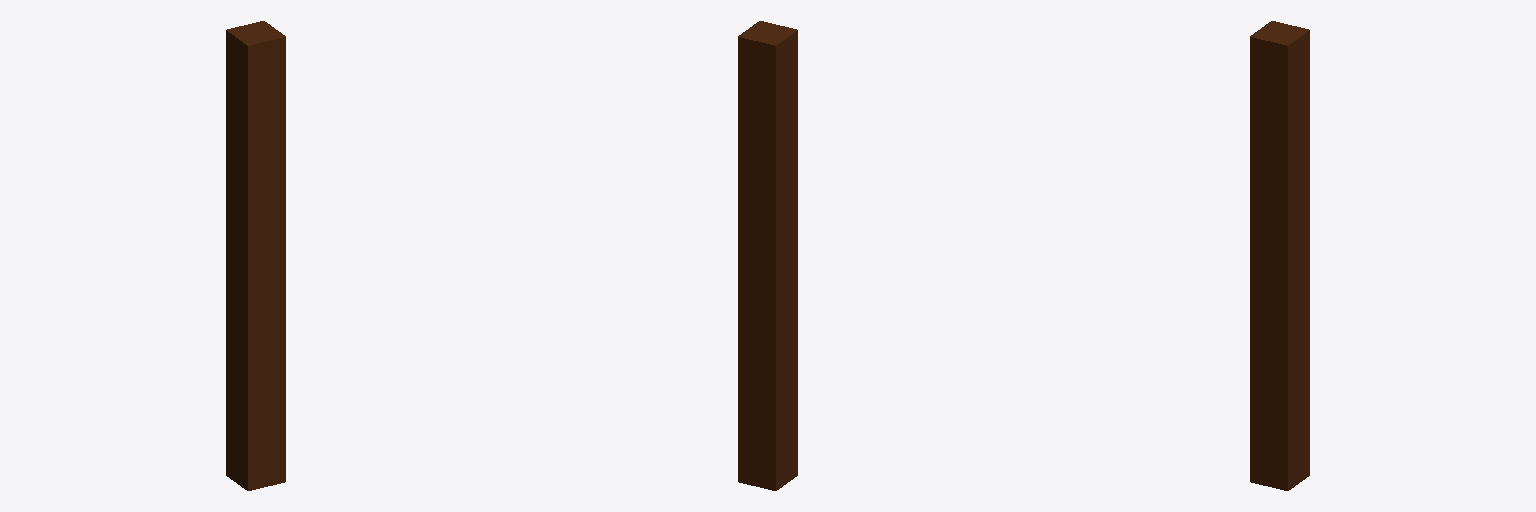
URDF robot description (tree_mid_mid):
<?xml version="1.0" ?>
<robot name="tree_mid_mid">
    <link name="block">
    <inertial>
      <origin xyz="0 0 0" rpy="0 0 0"/>
      <mass value="0.0"/>
      <inertia ixx="1" ixy="0" ixz="0" iyy="1" iyz="0" izz="1"/>
    </inertial>
    <!-- Visual representation of the cube (0.3m x 0.3m x 0.3m) -->
    <visual>
      <origin xyz="0 0 0" rpy="0 0 0"/>
      <geometry>
        <box size="0.45 0.45 5.0"/>
      </geometry>
      <material name="brown">
        <color rgba="0.35 0.20 0.10 1.0"/>
      </material>
    </visual>
    <!-- Collision representation of the cube (0.3m x 0.3m x 0.3m) -->
    <collision>
      <origin xyz="0 0 0" rpy="0 0 0"/>
      <geometry>
        <box size="0.45 0.45 5.0"/>
      </geometry>
    </collision>    
    <!-- Contact properties (optional, e.g., friction) --> 
    <contact>
      <lateral_friction value="1.0"/>
      <rolling_friction value="0.0"/>
      <restitution value="0.0"/>
    </contact>
  </link>
</robot>  

--- Render facts (derived) ---
3 views of the same robot in one strip: view 1: azimuth 30°, elevation 25°; view 2: azimuth 150°, elevation 25°; view 3: azimuth 330°, elevation 25° (orthographic).
Robot: tree_mid_mid — 1 links, 0 joints (none); root link block; default pose: all joints at 0.
Visible links, largest first — view 1: block; view 2: block; view 3: block.
Boxes of the visible links, box(x1,y1,x2,y2) form: block: box(226, 21, 285, 490); block: box(738, 21, 797, 490); block: box(1250, 21, 1309, 490).
Size in the robot's own frame: 0.45 by 0.45 by 5 metres.
Geometry: primitives only (box / cylinder / sphere), no mesh files.
